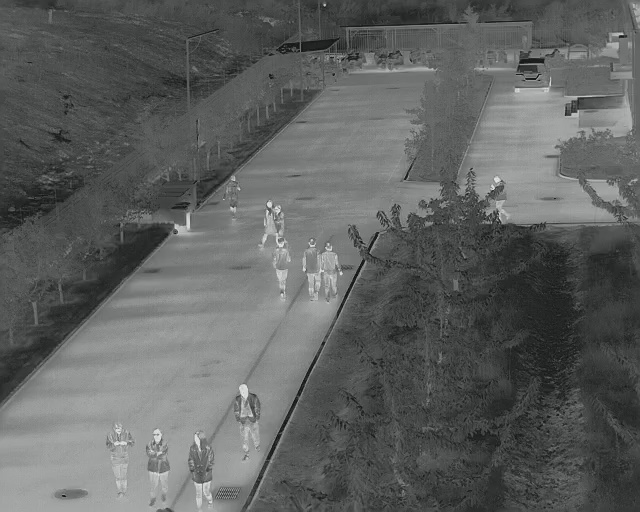person: (231, 383, 263, 461), (187, 429, 216, 512), (105, 422, 135, 498), (144, 427, 170, 506), (318, 241, 342, 305), (271, 236, 291, 303), (301, 236, 321, 301), (257, 199, 278, 250), (223, 174, 243, 223)
vehicle: (512, 55, 554, 97)
